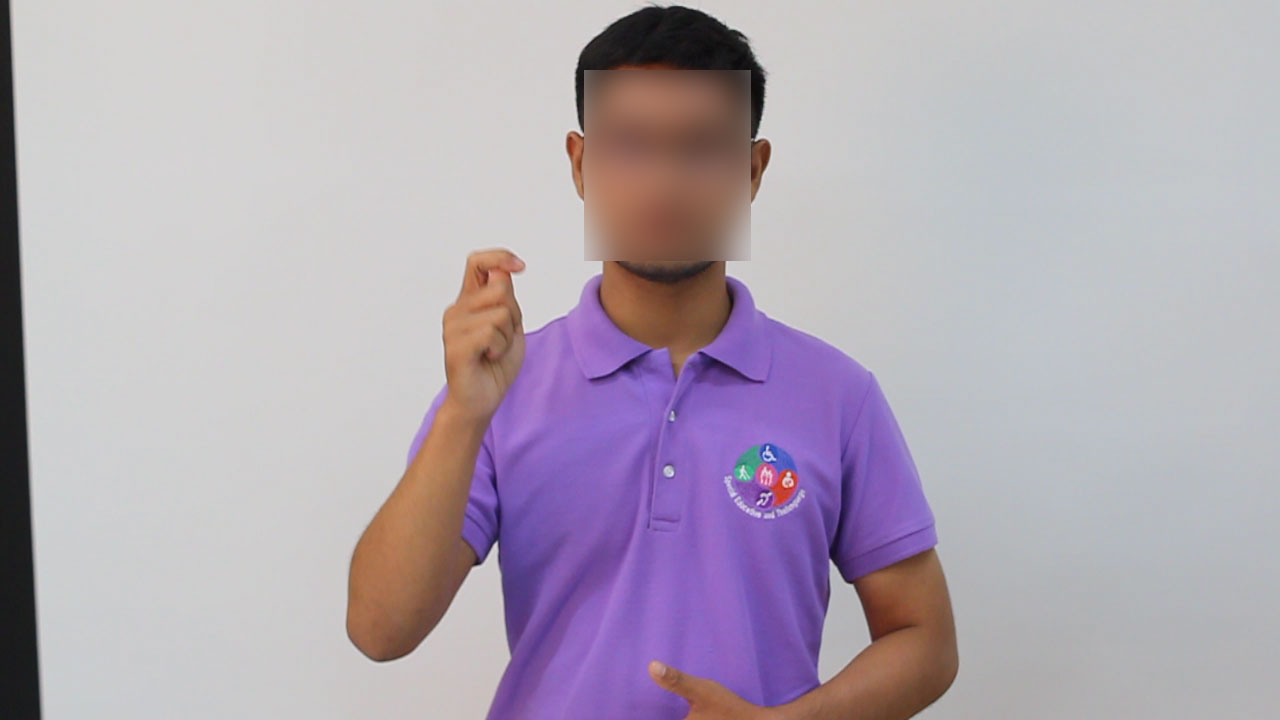or: (432, 232, 535, 433)
